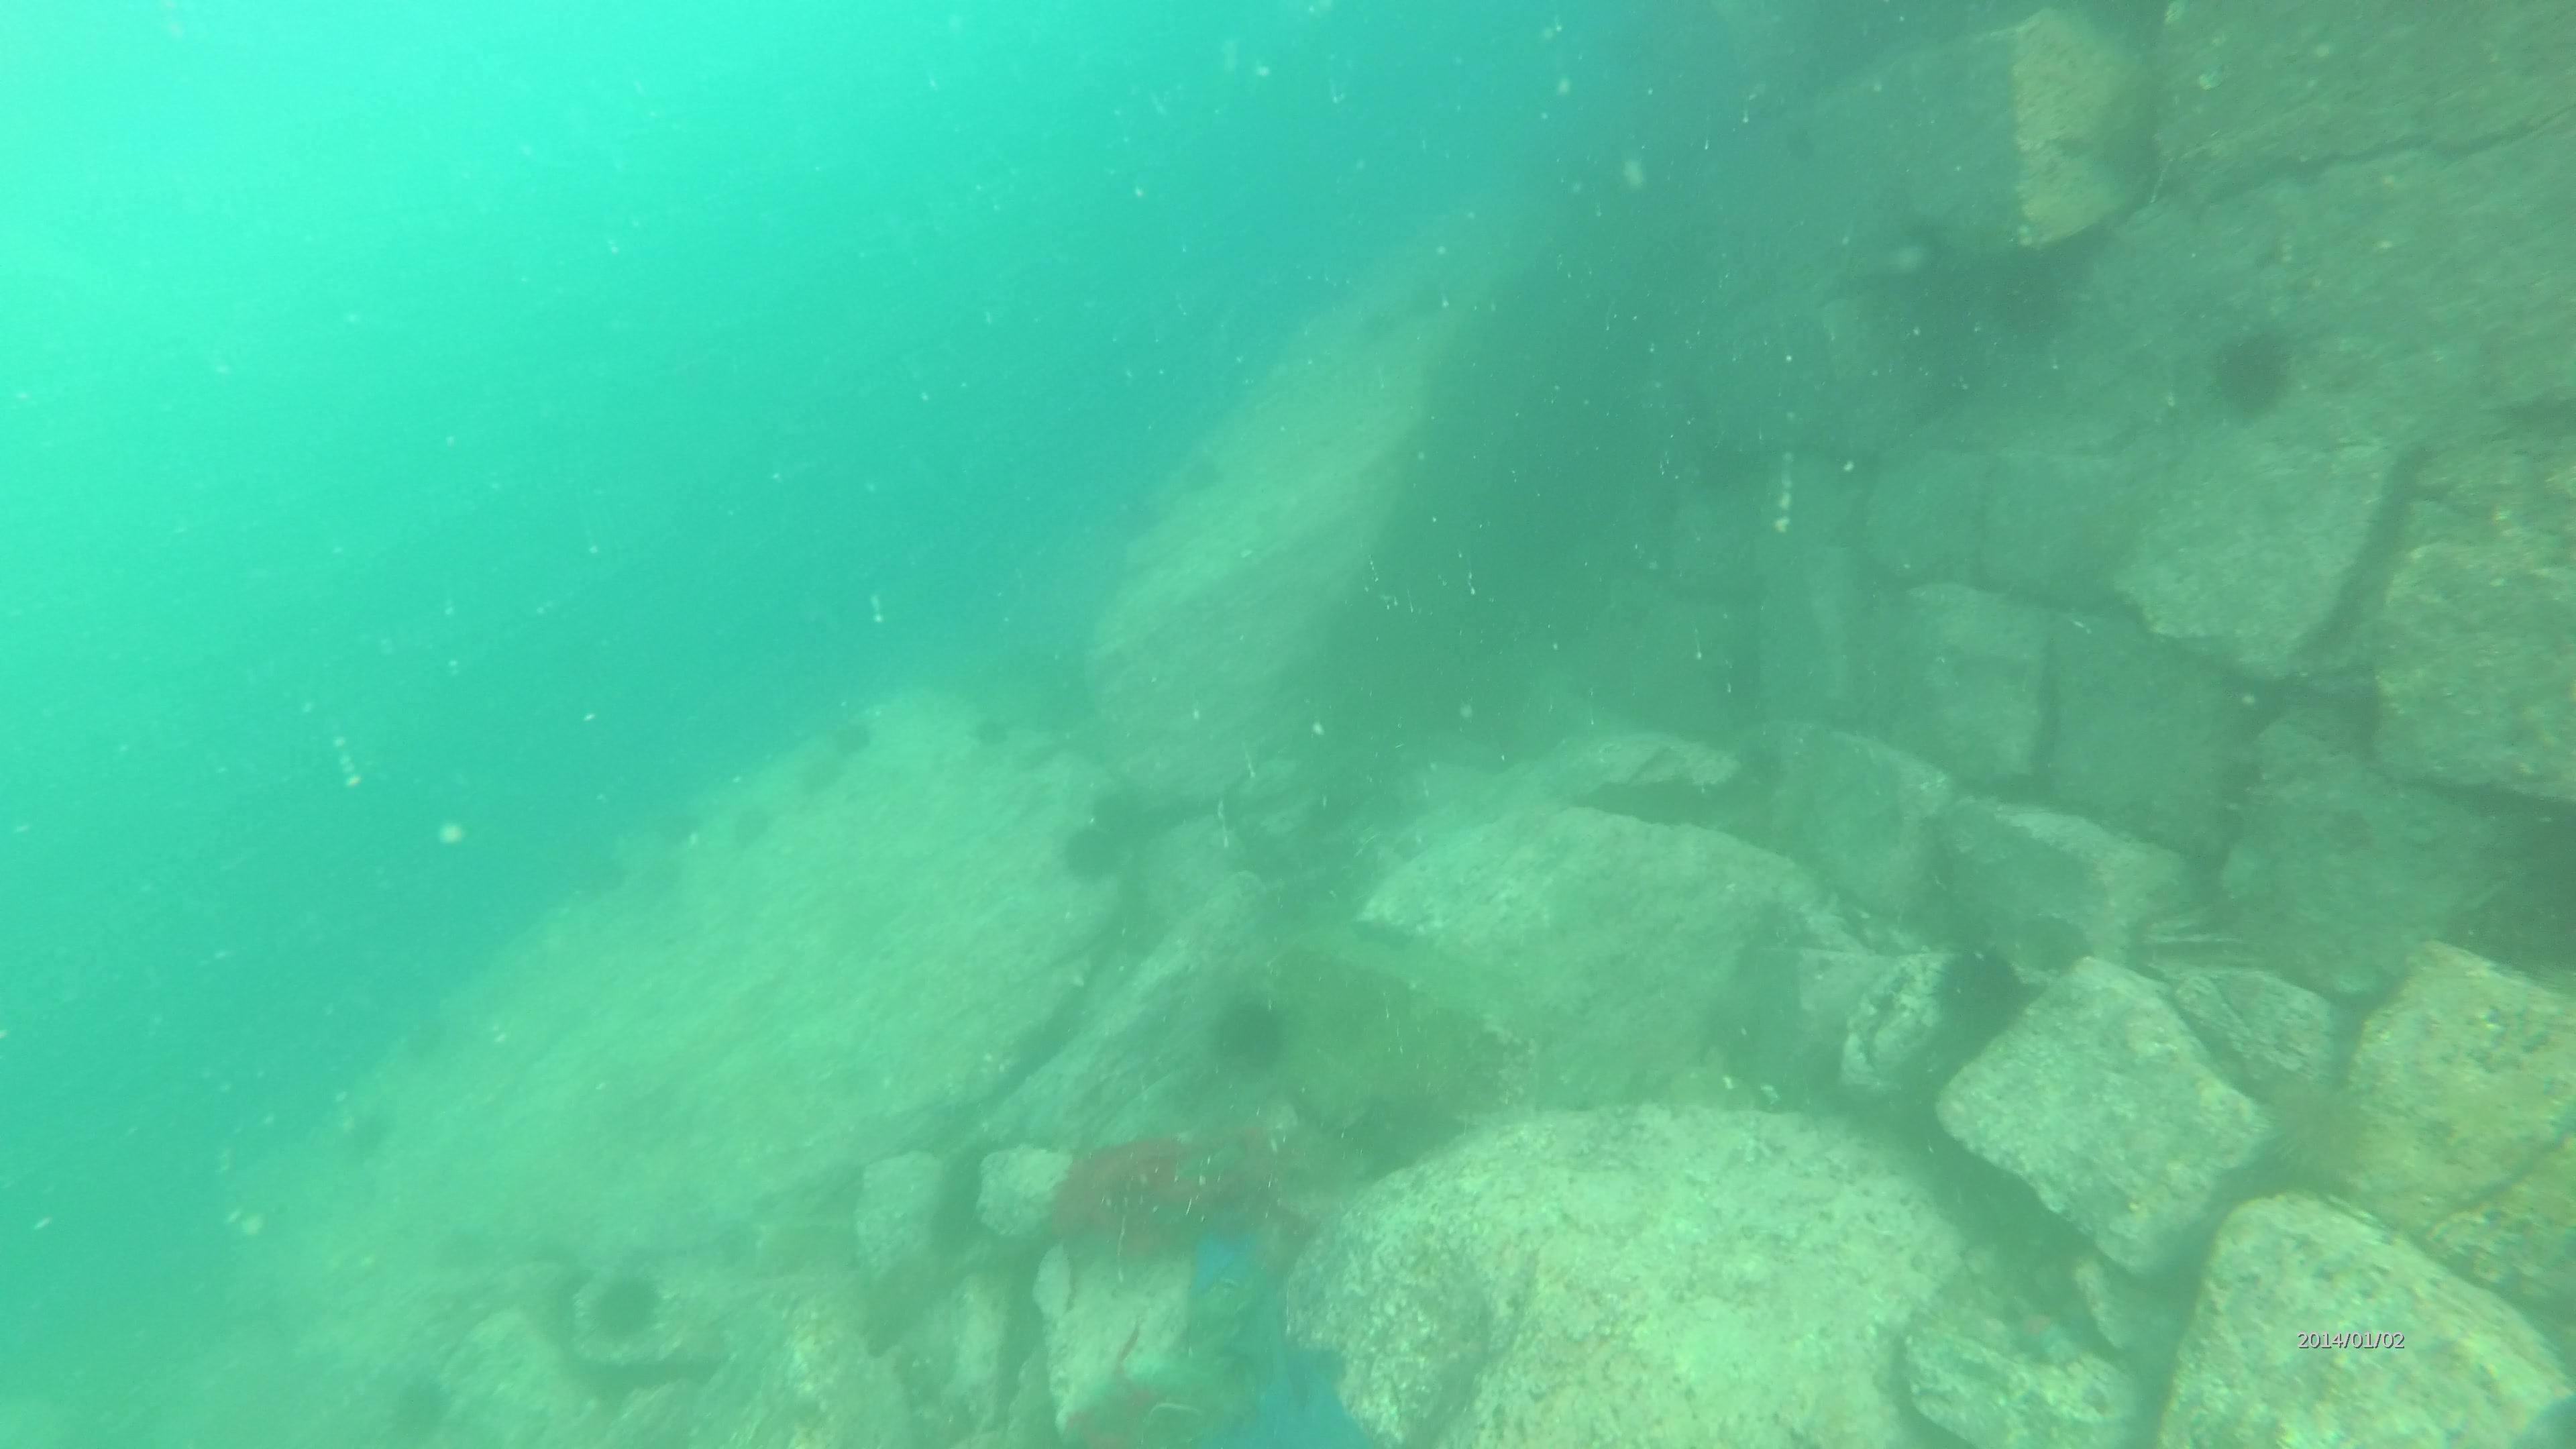echinus: (2254, 1062, 2369, 1187), (1990, 246, 2093, 352), (2201, 320, 2305, 421), (1201, 994, 1293, 1083), (1941, 957, 2026, 1047), (379, 1378, 464, 1449), (1060, 816, 1139, 885), (329, 1097, 409, 1161), (584, 1276, 655, 1346), (722, 794, 782, 858), (1338, 306, 1401, 350), (566, 856, 628, 901), (1182, 451, 1224, 506), (830, 715, 883, 755)
